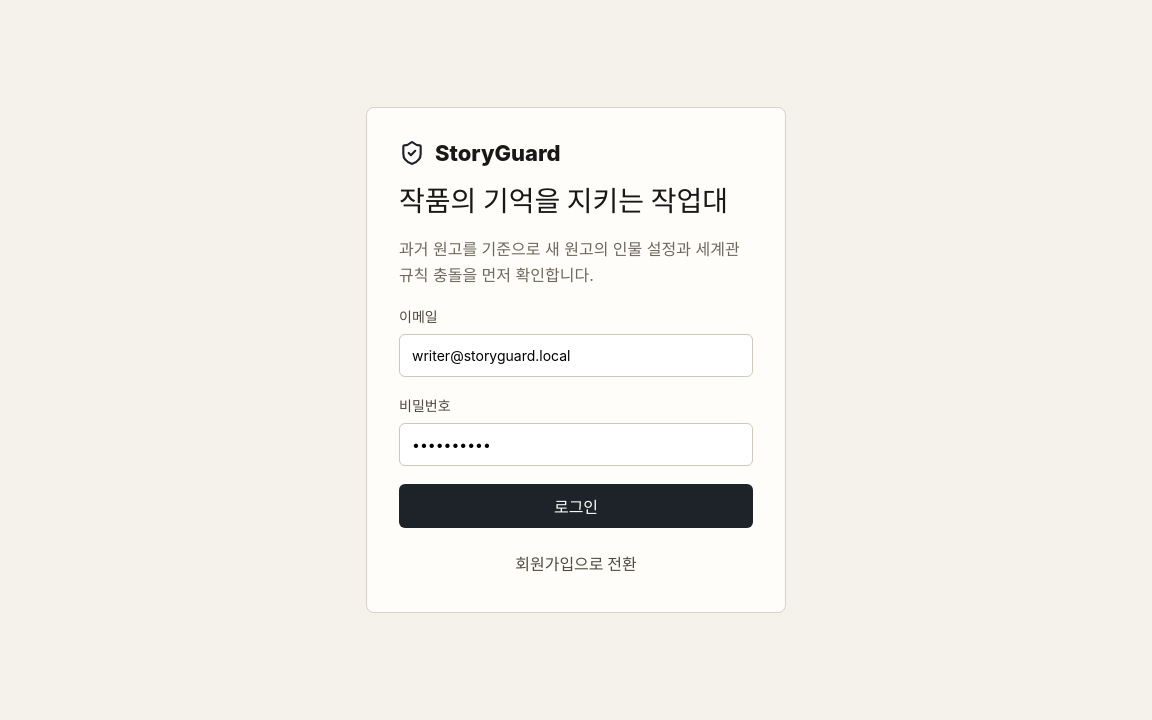
StoryGuard app › distinguishes reading and writing editor states
Click the button "로그인" at (576, 506), box [399,484,753,528]
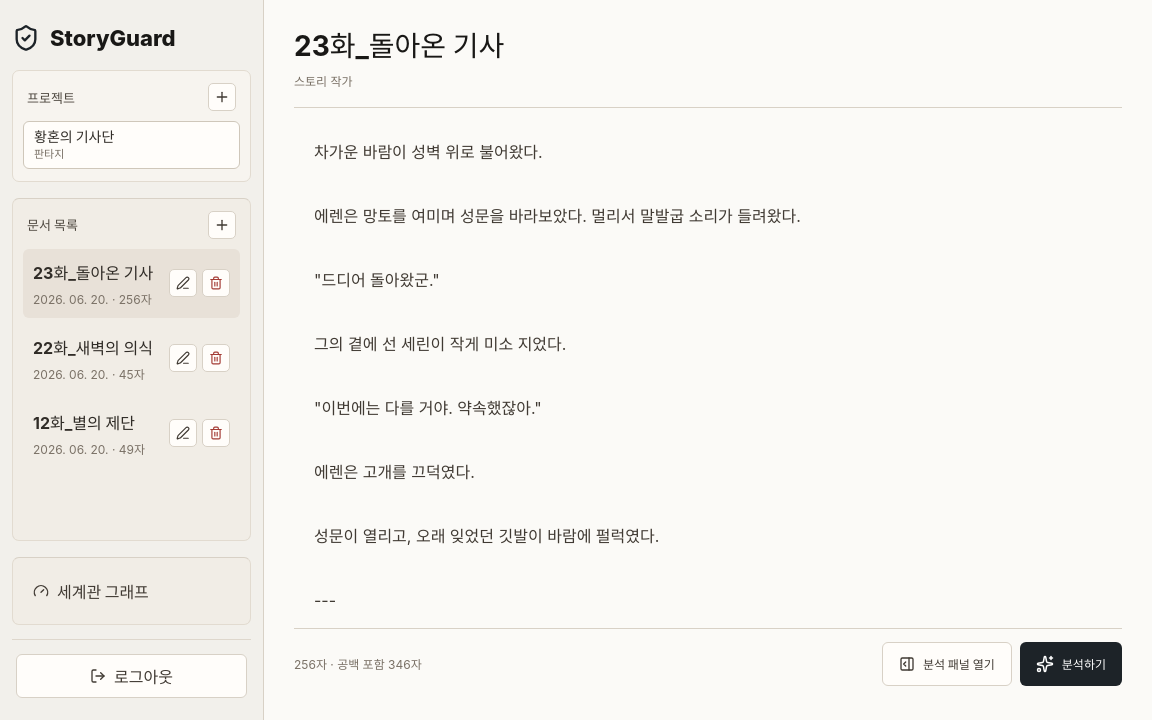
Expected: the field labelled "Markdown 가져오기" is not shown
Expected: the heading "23화_돌아온 기사" is shown, [294,24,504,64]
Expected: the text box named "원고 본문" is disabled, [294,108,1122,628]
Click the button named "23화_돌아온 기사 수정" at (183, 284), box [169,270,197,298]
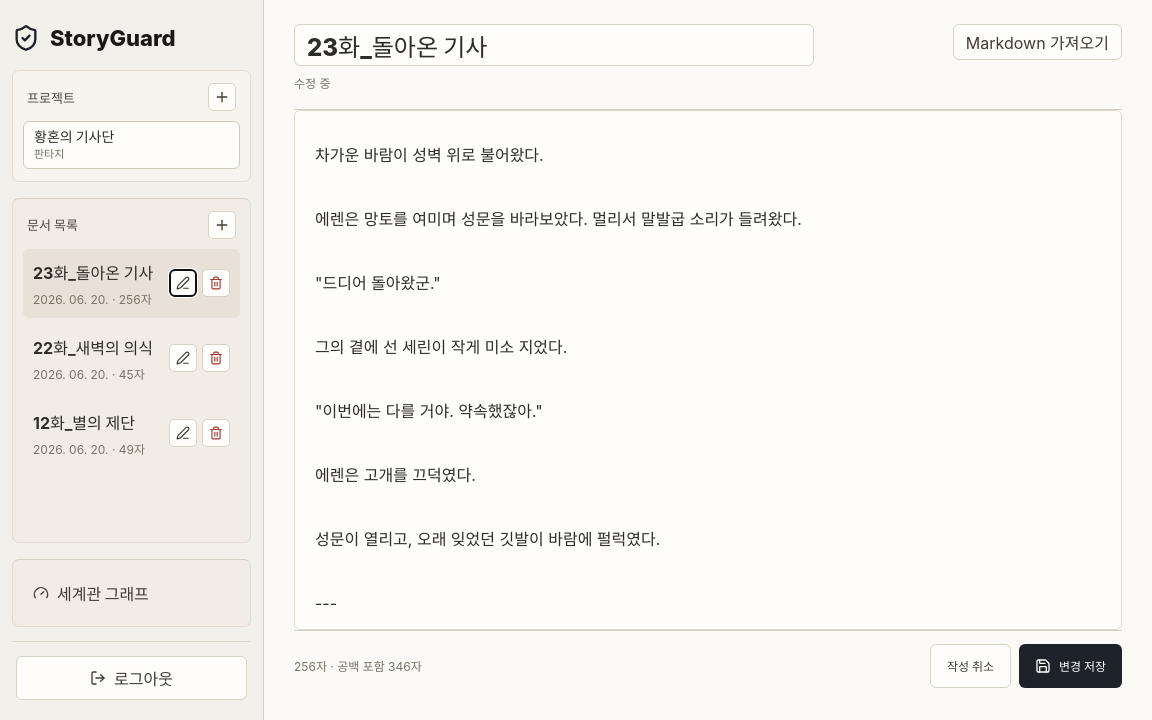
Expected: the text box named "원고 본문" is enabled, [294,110,1122,630]
Expected: the file field labelled "Markdown 가져오기" is shown, [953,24,1122,60]
